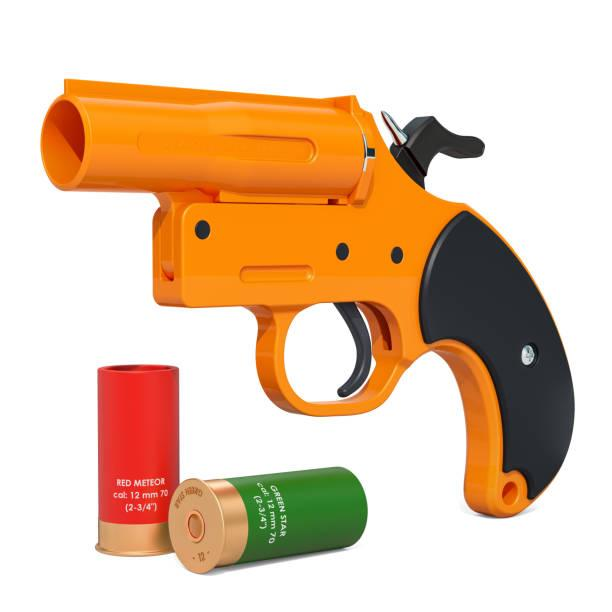weapon: (35, 73, 580, 524)
